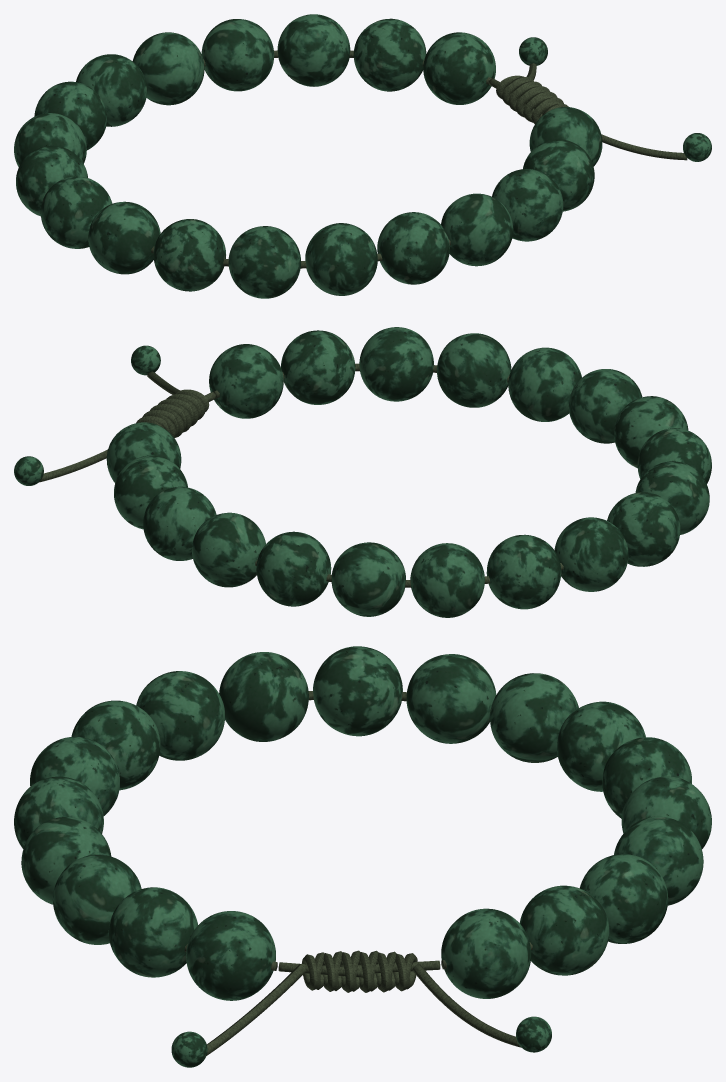
The model's file is nefryt.glb.
The picture shows the model from 3 angles, top to bottom: view 1: azimuth 30°, elevation 25°; view 2: azimuth 150°, elevation 25°; view 3: azimuth 270°, elevation 25°; orthographic projection. The views are drawn at different scales.
Visible parts, largest first — view 1: bead_round_0.004, bead_round_2, bead_round_1.004, bead_round_1, bead_round_0.001, bead_round_2.003, bead_round_2.004, bead_round_0, bead_round_1.003, bead_round_0.005, bead_round_1.001, bead_round_1.005 (+10 smaller); view 2: bead_round_0.002, bead_round_1.005, bead_round_2.001, bead_round_1.002, bead_round_1.001, bead_round_0.005, bead_round_2.005, bead_round_0.006, bead_round_2.002, bead_round_0.001, bead_round_2.004, bead_round_0.003 (+10 smaller); view 3: bead_round_0, bead_round_0.003, bead_round_0.006, bead_round_1.003, bead_round_2.002, bead_round_1, bead_round_2.005, bead_round_1.002, bead_round_2.003, bead_round_2, bead_round_1.005, bead_round_0.002 (+11 smaller).
Boxes of the visible parts, x1=… form: bead_round_0.004: x1=228, y1=226, x2=300, y2=298; bead_round_2: x1=277, y1=14, x2=350, y2=86; bead_round_1.004: x1=305, y1=223, x2=377, y2=295; bead_round_1: x1=353, y1=18, x2=426, y2=91; bead_round_0.001: x1=201, y1=19, x2=274, y2=91; bead_round_2.003: x1=153, y1=219, x2=225, y2=291; bead_round_2.004: x1=377, y1=212, x2=449, y2=284; bead_round_0: x1=423, y1=32, x2=495, y2=104; bead_round_1.003: x1=88, y1=201, x2=160, y2=274; bead_round_0.005: x1=441, y1=193, x2=513, y2=266; bead_round_1.001: x1=132, y1=32, x2=204, y2=105; bead_round_1.005: x1=492, y1=169, x2=563, y2=241; bead_round_0.002: x1=410, y1=543, x2=484, y2=617; bead_round_1.005: x1=359, y1=327, x2=433, y2=401; bead_round_2.001: x1=331, y1=542, x2=405, y2=616; bead_round_1.002: x1=486, y1=534, x2=561, y2=609; bead_round_1.001: x1=256, y1=531, x2=331, y2=606; bead_round_0.005: x1=437, y1=333, x2=511, y2=407; bead_round_2.005: x1=281, y1=330, x2=355, y2=404; bead_round_0.006: x1=209, y1=344, x2=283, y2=418; bead_round_2.002: x1=554, y1=517, x2=628, y2=591; bead_round_0.001: x1=192, y1=512, x2=265, y2=587; bead_round_2.004: x1=508, y1=347, x2=581, y2=421; bead_round_0.003: x1=607, y1=492, x2=680, y2=566; bead_round_0: x1=441, y1=908, x2=531, y2=998; bead_round_0.003: x1=313, y1=646, x2=402, y2=736; bead_round_0.006: x1=186, y1=911, x2=275, y2=1000; bead_round_1.003: x1=219, y1=652, x2=308, y2=741; bead_round_2.002: x1=406, y1=654, x2=496, y2=743; bead_round_1: x1=519, y1=885, x2=609, y2=975; bead_round_2.005: x1=108, y1=887, x2=197, y2=977; bead_round_1.002: x1=490, y1=673, x2=578, y2=762; bead_round_2.003: x1=136, y1=671, x2=224, y2=760; bead_round_2: x1=579, y1=854, x2=668, y2=943; bead_round_1.005: x1=53, y1=854, x2=141, y2=944; bead_round_0.002: x1=557, y1=701, x2=645, y2=791.
Bounding box in the file's own units: 7.57 × 0.8022 × 6.19.
4 materials, 4 textured.
